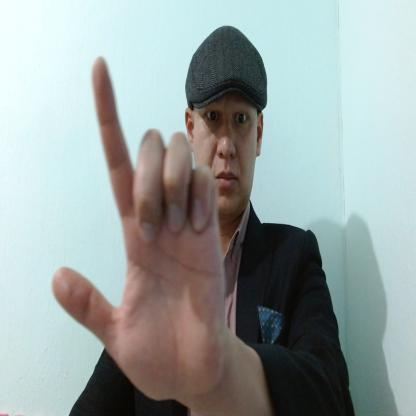L: (51, 56, 227, 402)
